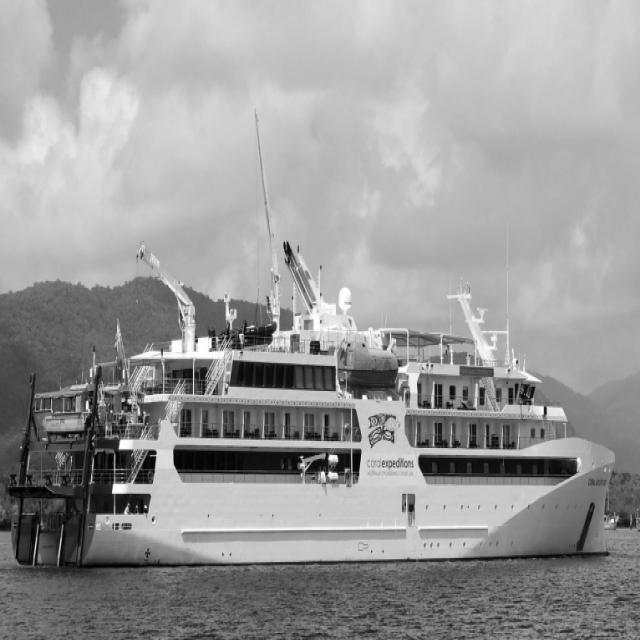cruises: (5, 239, 619, 574)
